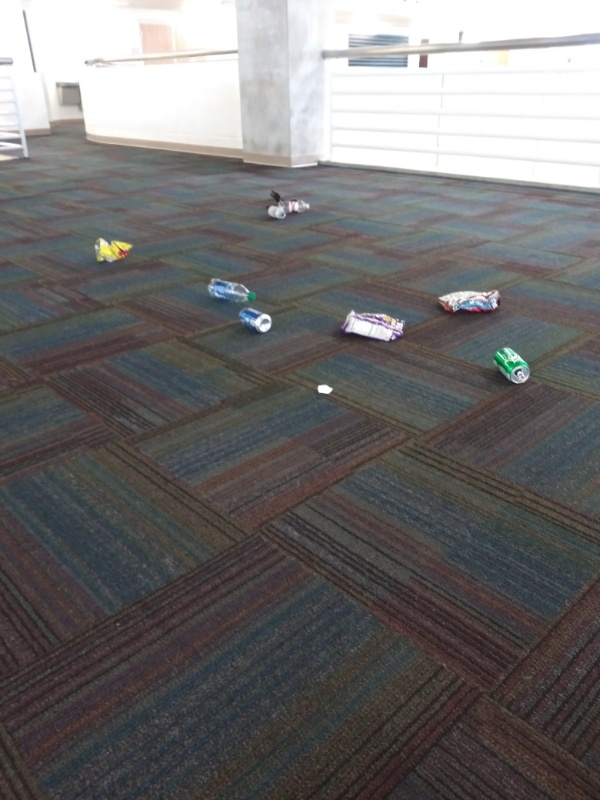bag: (334, 305, 411, 350), (434, 285, 504, 320), (87, 235, 138, 265)
bottle: (202, 276, 260, 306), (277, 195, 315, 216)
can: (484, 344, 534, 393), (236, 304, 277, 336), (263, 200, 286, 225)
